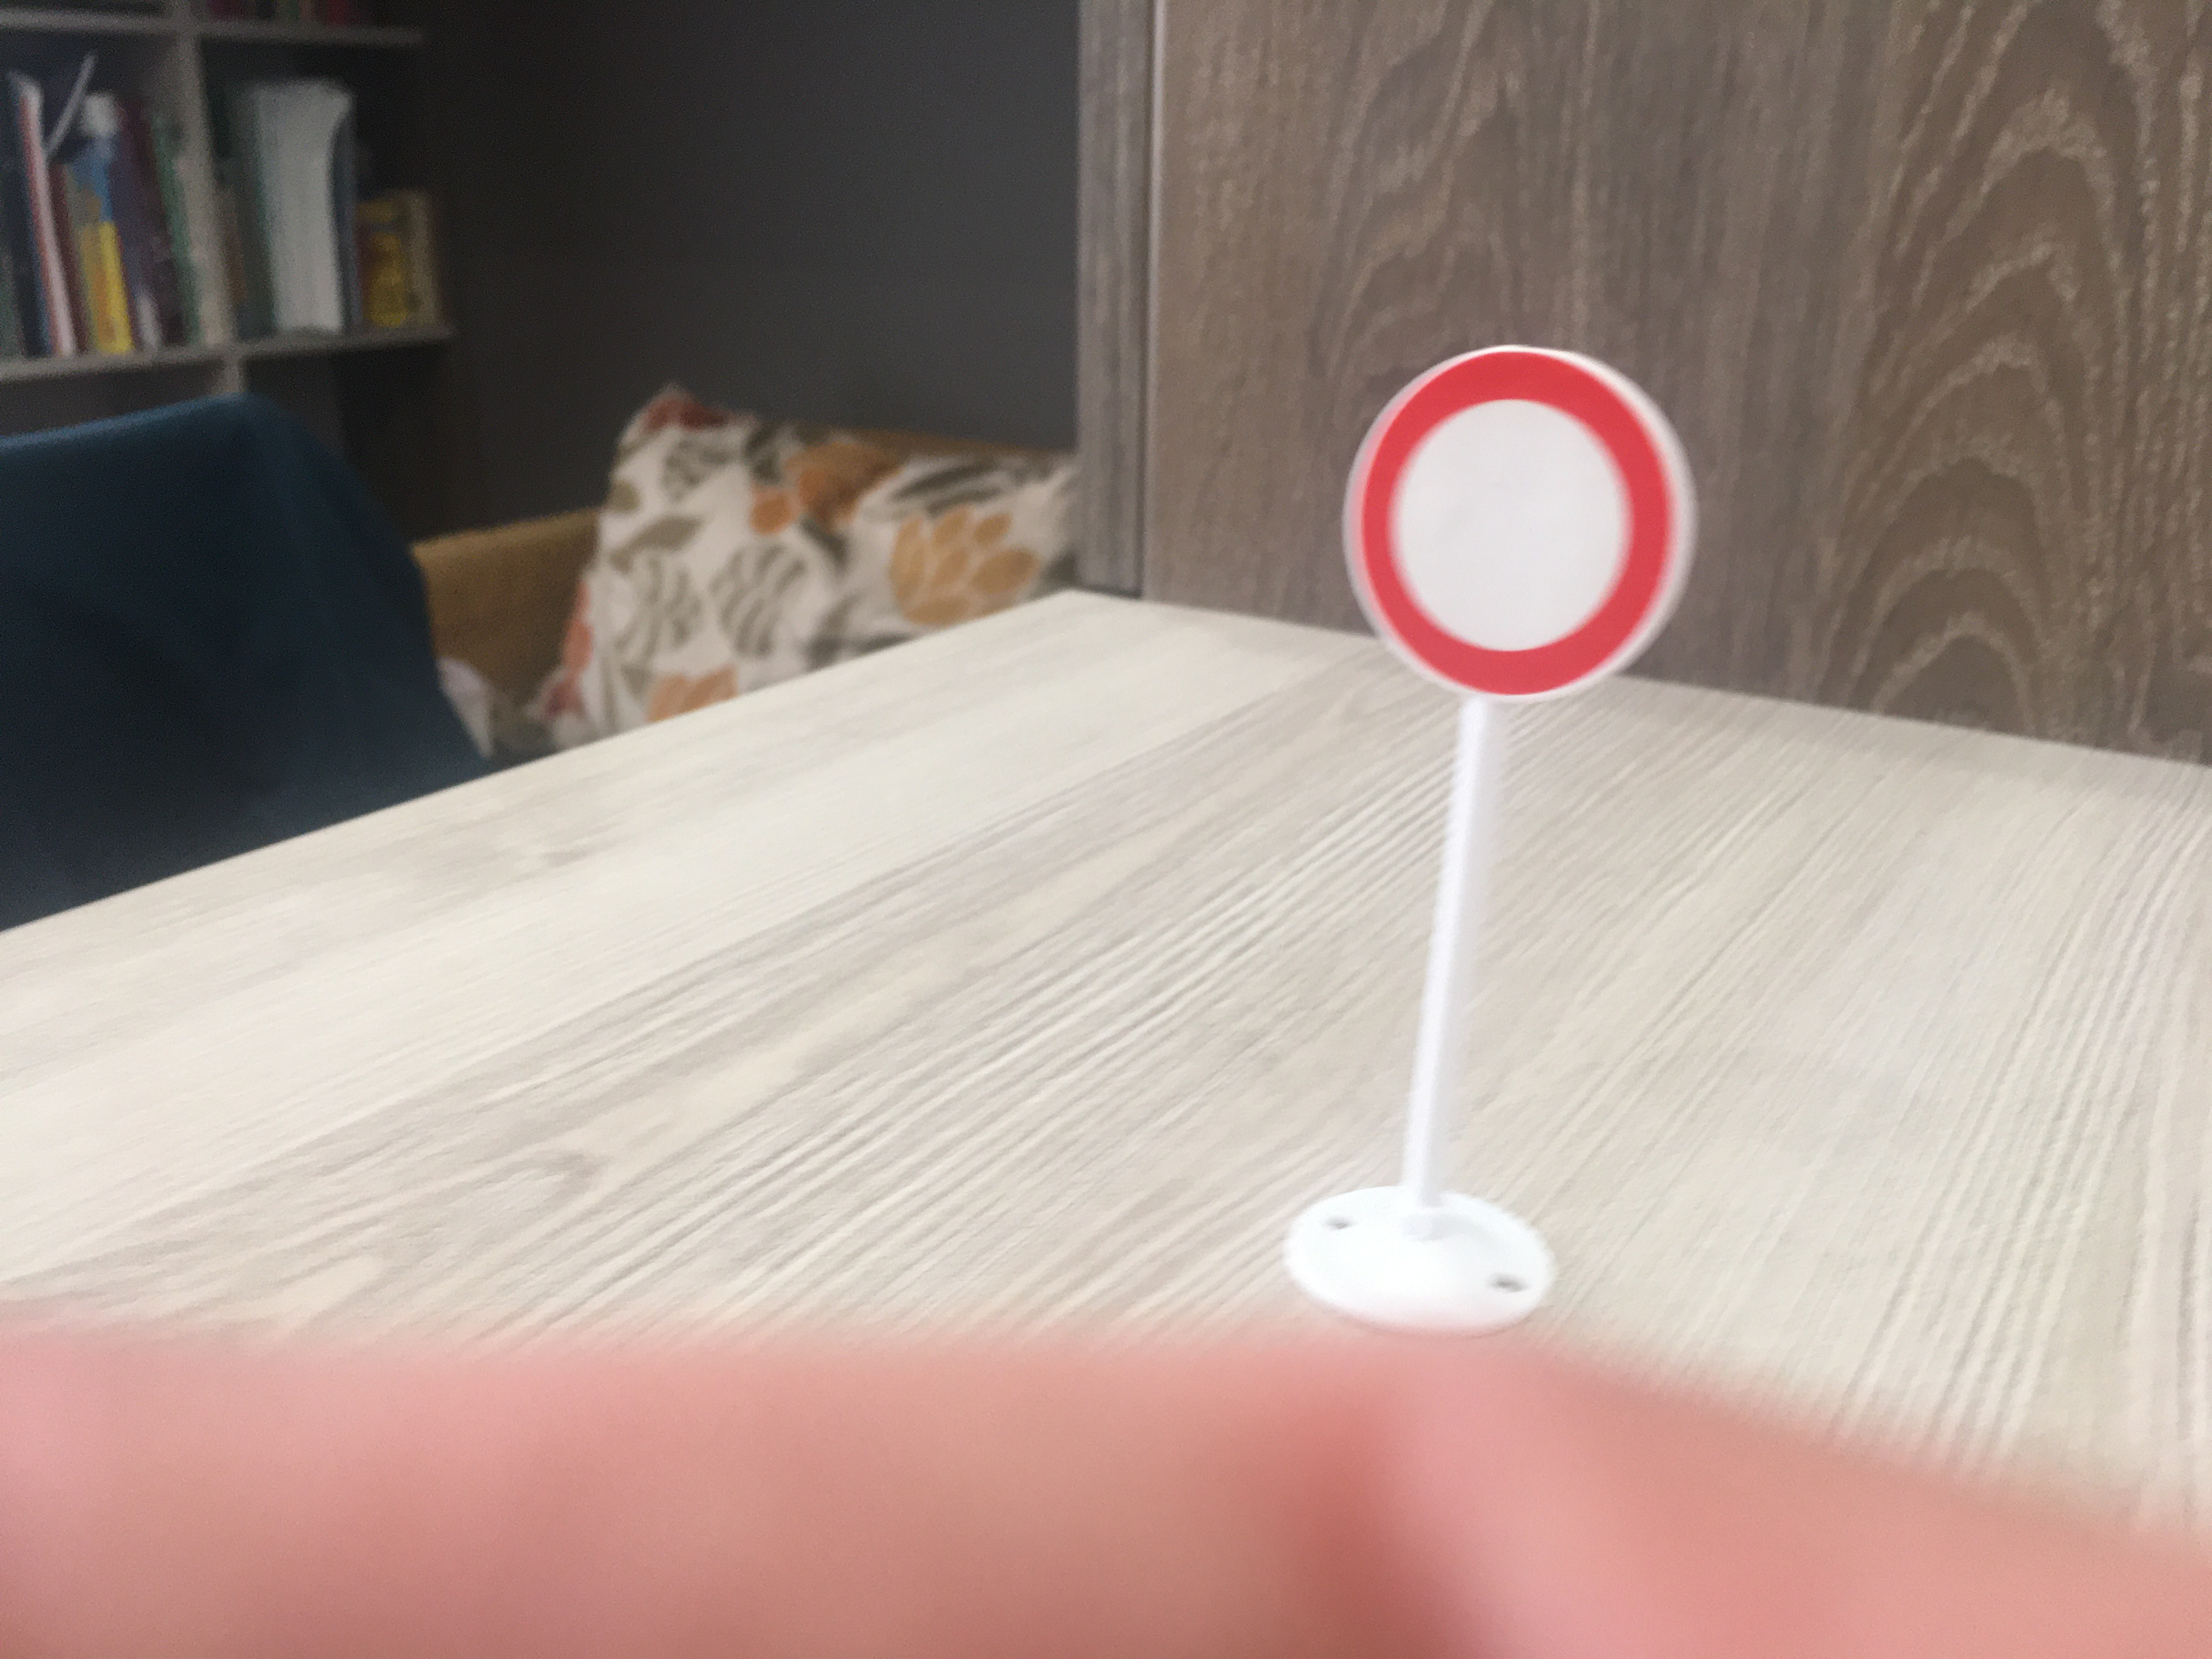noDrive: (1343, 350, 1681, 695)
